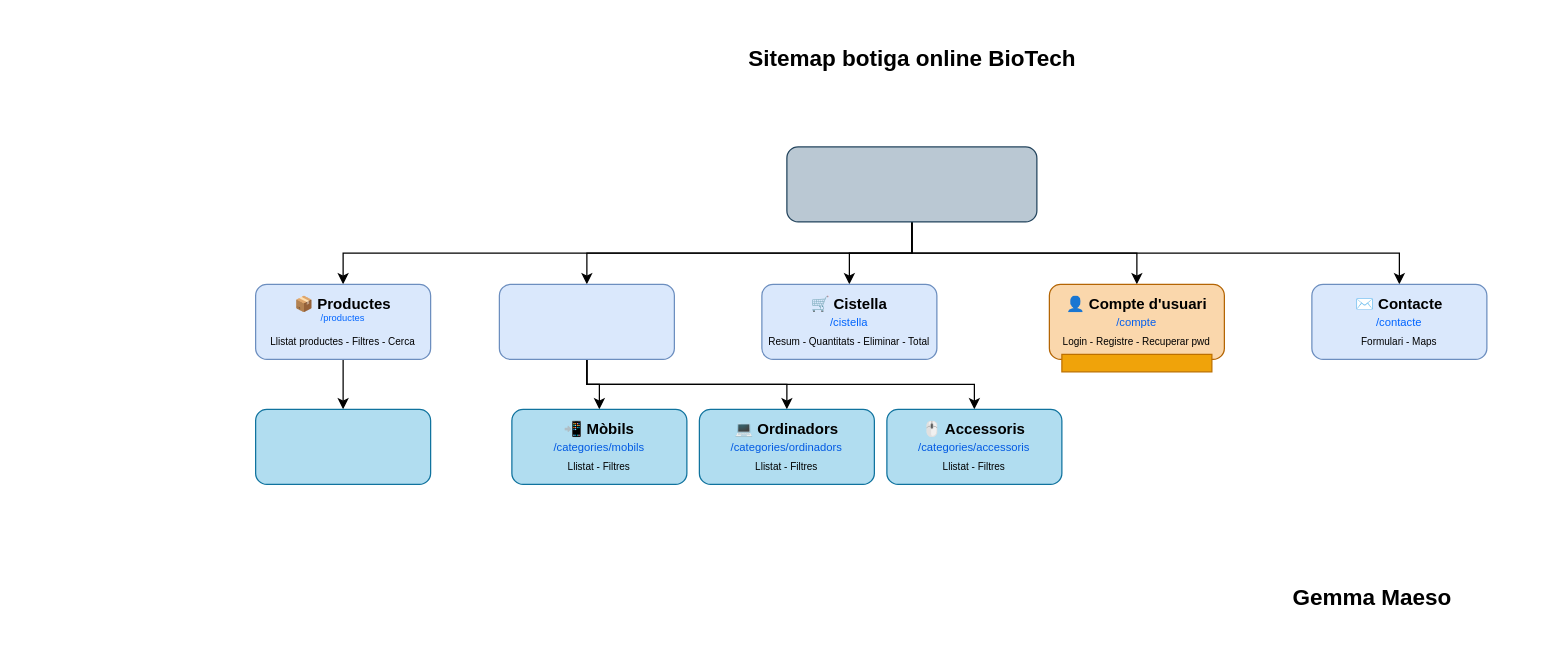
Some shapes in this 1565 by 661 pixel diagram are drawn without their labels. The shapes that lost their labels are listed below. From the top down, each one's box as (x1, y1, x2, y2) in pixels, then its label:
(786, 146, 1037, 222): 🏠 Pàgina d'inici (home) / Hero - Productes destacats - Categories - Ofertes
(498, 283, 674, 359): 🗂️ Categories /categories Vista general totes les categories
(1061, 353, 1212, 372): 🔒Pàgina privada
(254, 408, 431, 484): 🗃️ Detall de producte /productes/{id} Imatges - Descripció - Preu - Afegir
